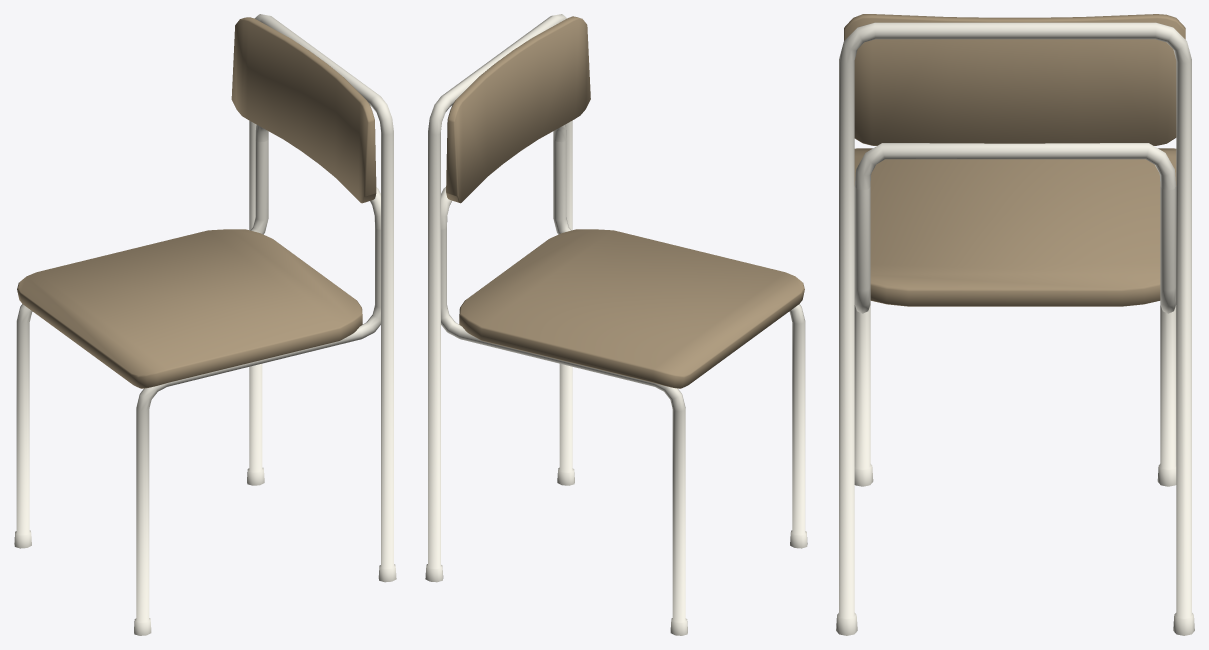
File: chair.glb
3 renders of one model, left to right at view 1: azimuth 30°, elevation 25°; view 2: azimuth 150°, elevation 25°; view 3: azimuth 270°, elevation 25°, orthographic. The views are drawn at different scales.
Visible parts, largest first — view 1: Default-wire_148177027 (×2), Default-wire_153228214; view 2: Default-wire_148177027 (×2), Default-wire_153228214; view 3: Default-wire_148177027 (×2), Default-wire_153228214.
Part boxes in pixels (x1,y1,x2,y2): Default-wire_148177027 (×2): (17, 17, 376, 388); Default-wire_153228214: (14, 14, 396, 635); Default-wire_148177027 (×2): (446, 16, 804, 388); Default-wire_153228214: (425, 14, 807, 635); Default-wire_148177027 (×2): (844, 14, 1185, 306); Default-wire_153228214: (836, 22, 1194, 635).
Size of the model in its own units: 18.06 by 32.07 by 17.16.
